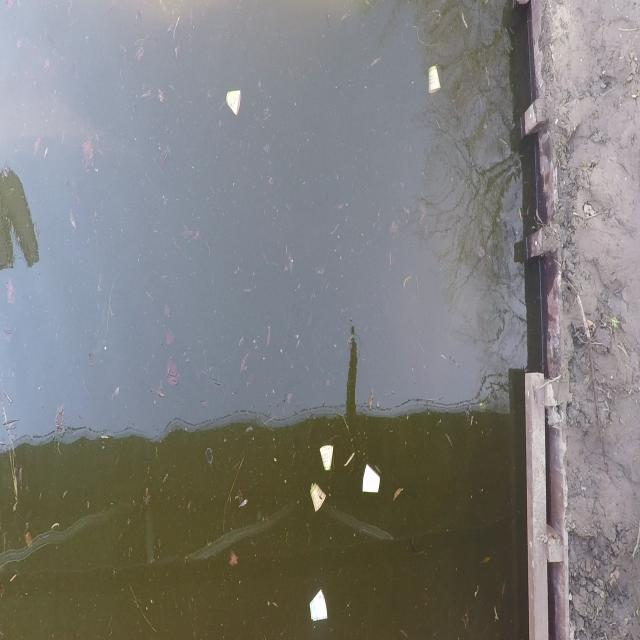Non plastique: (349, 460, 390, 497), (302, 589, 331, 631), (306, 477, 334, 516), (421, 62, 443, 102), (222, 84, 246, 119), (316, 439, 338, 477)
